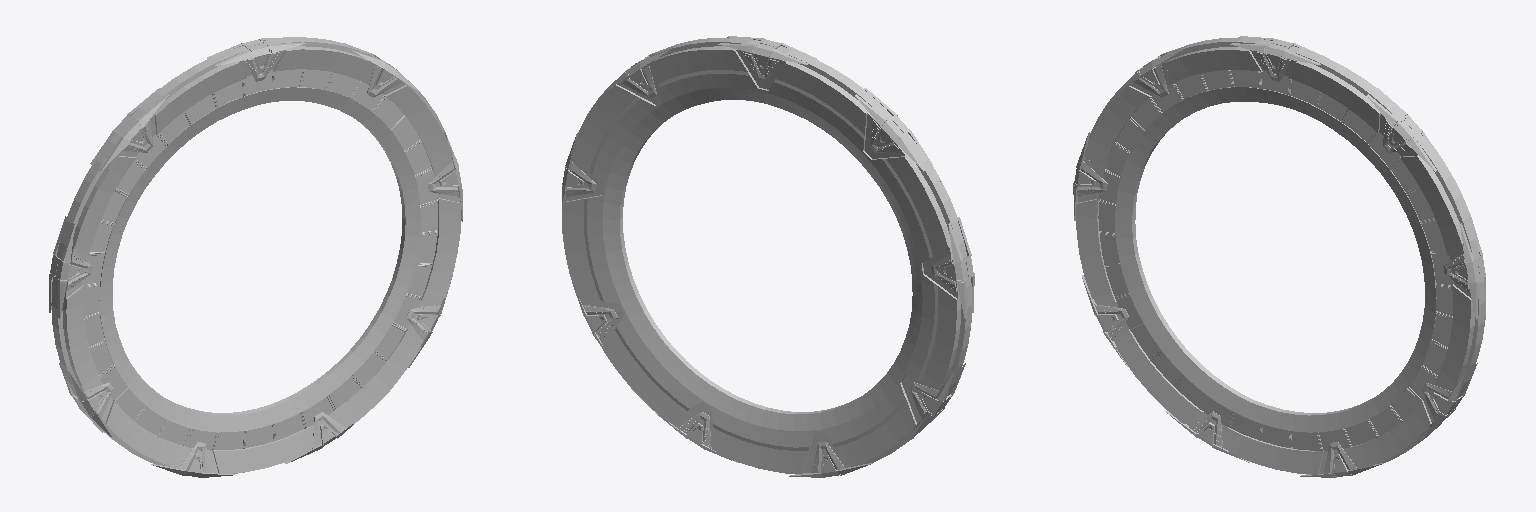
Rendered from pegasus_stargate_full.obj.
The picture shows the model from 3 angles: view 1: azimuth 30°, elevation 25°; view 2: azimuth 150°, elevation 25°; view 3: azimuth 330°, elevation 25°; orthographic projection.
Parts seen in each view (by area): view 1: chevronMoving; view 2: chevronMoving; view 3: chevronMoving.
Boxes of the visible parts, x1=… form: chevronMoving: x1=49, y1=37, x2=462, y2=477; chevronMoving: x1=562, y1=36, x2=974, y2=477; chevronMoving: x1=1073, y1=36, x2=1485, y2=477.
Bounding box in the file's own units: 10.19 × 10.2 × 0.6505.